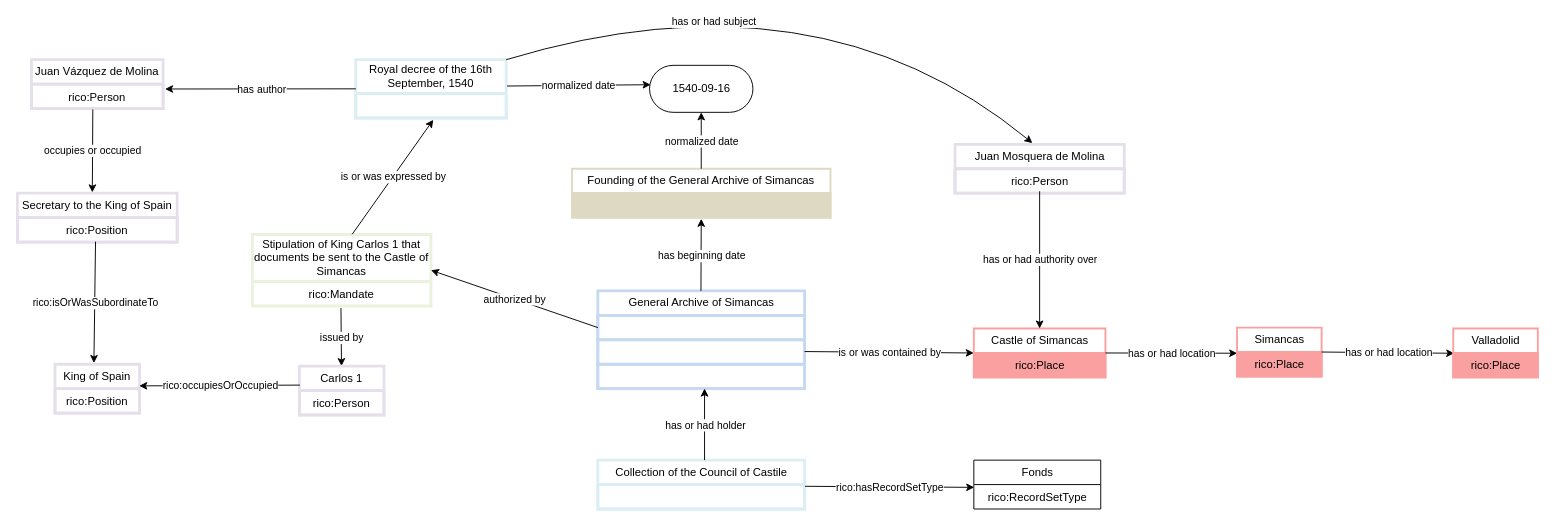
Some shapes in this 1555 by 528 pixel diagram are drawn without their labels. Each missing label, with the centre of its shape:
Corporate Body: the point at 701,327
Place: the point at 701,351
Record Set: the point at 701,376
rico:Date: the point at 701,205
rico:Record: the point at 430,105
rico:RecordSet: the point at 701,496
